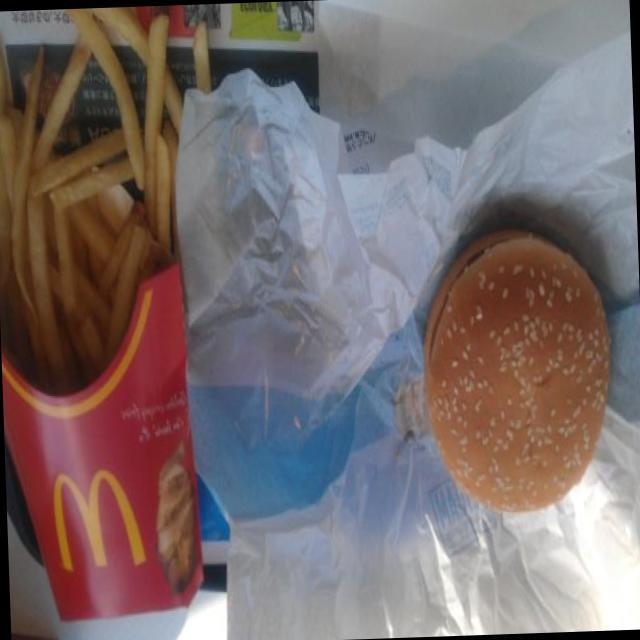Hamburger: (417, 224, 626, 527)
